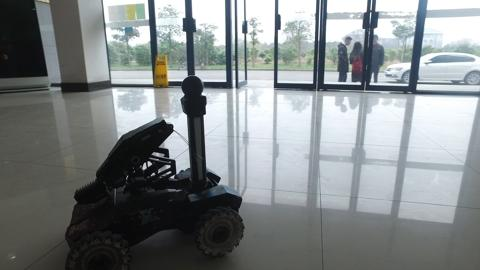chariot: (40, 69, 268, 270)
